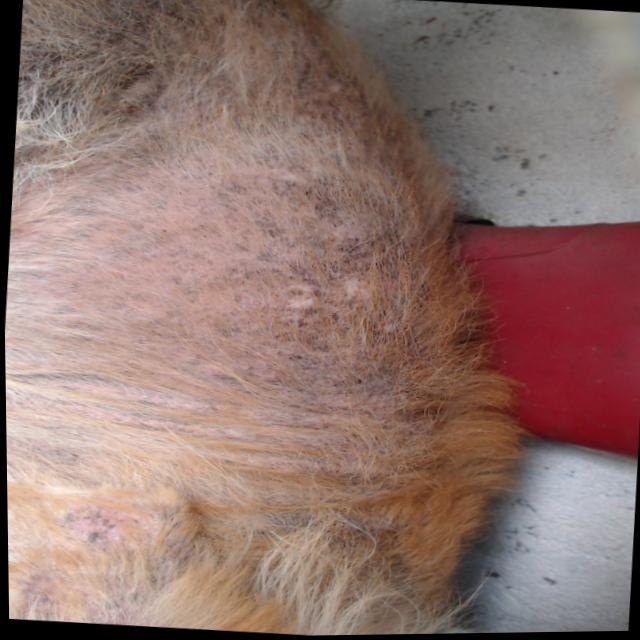demodicosis: (107, 158, 403, 428)
